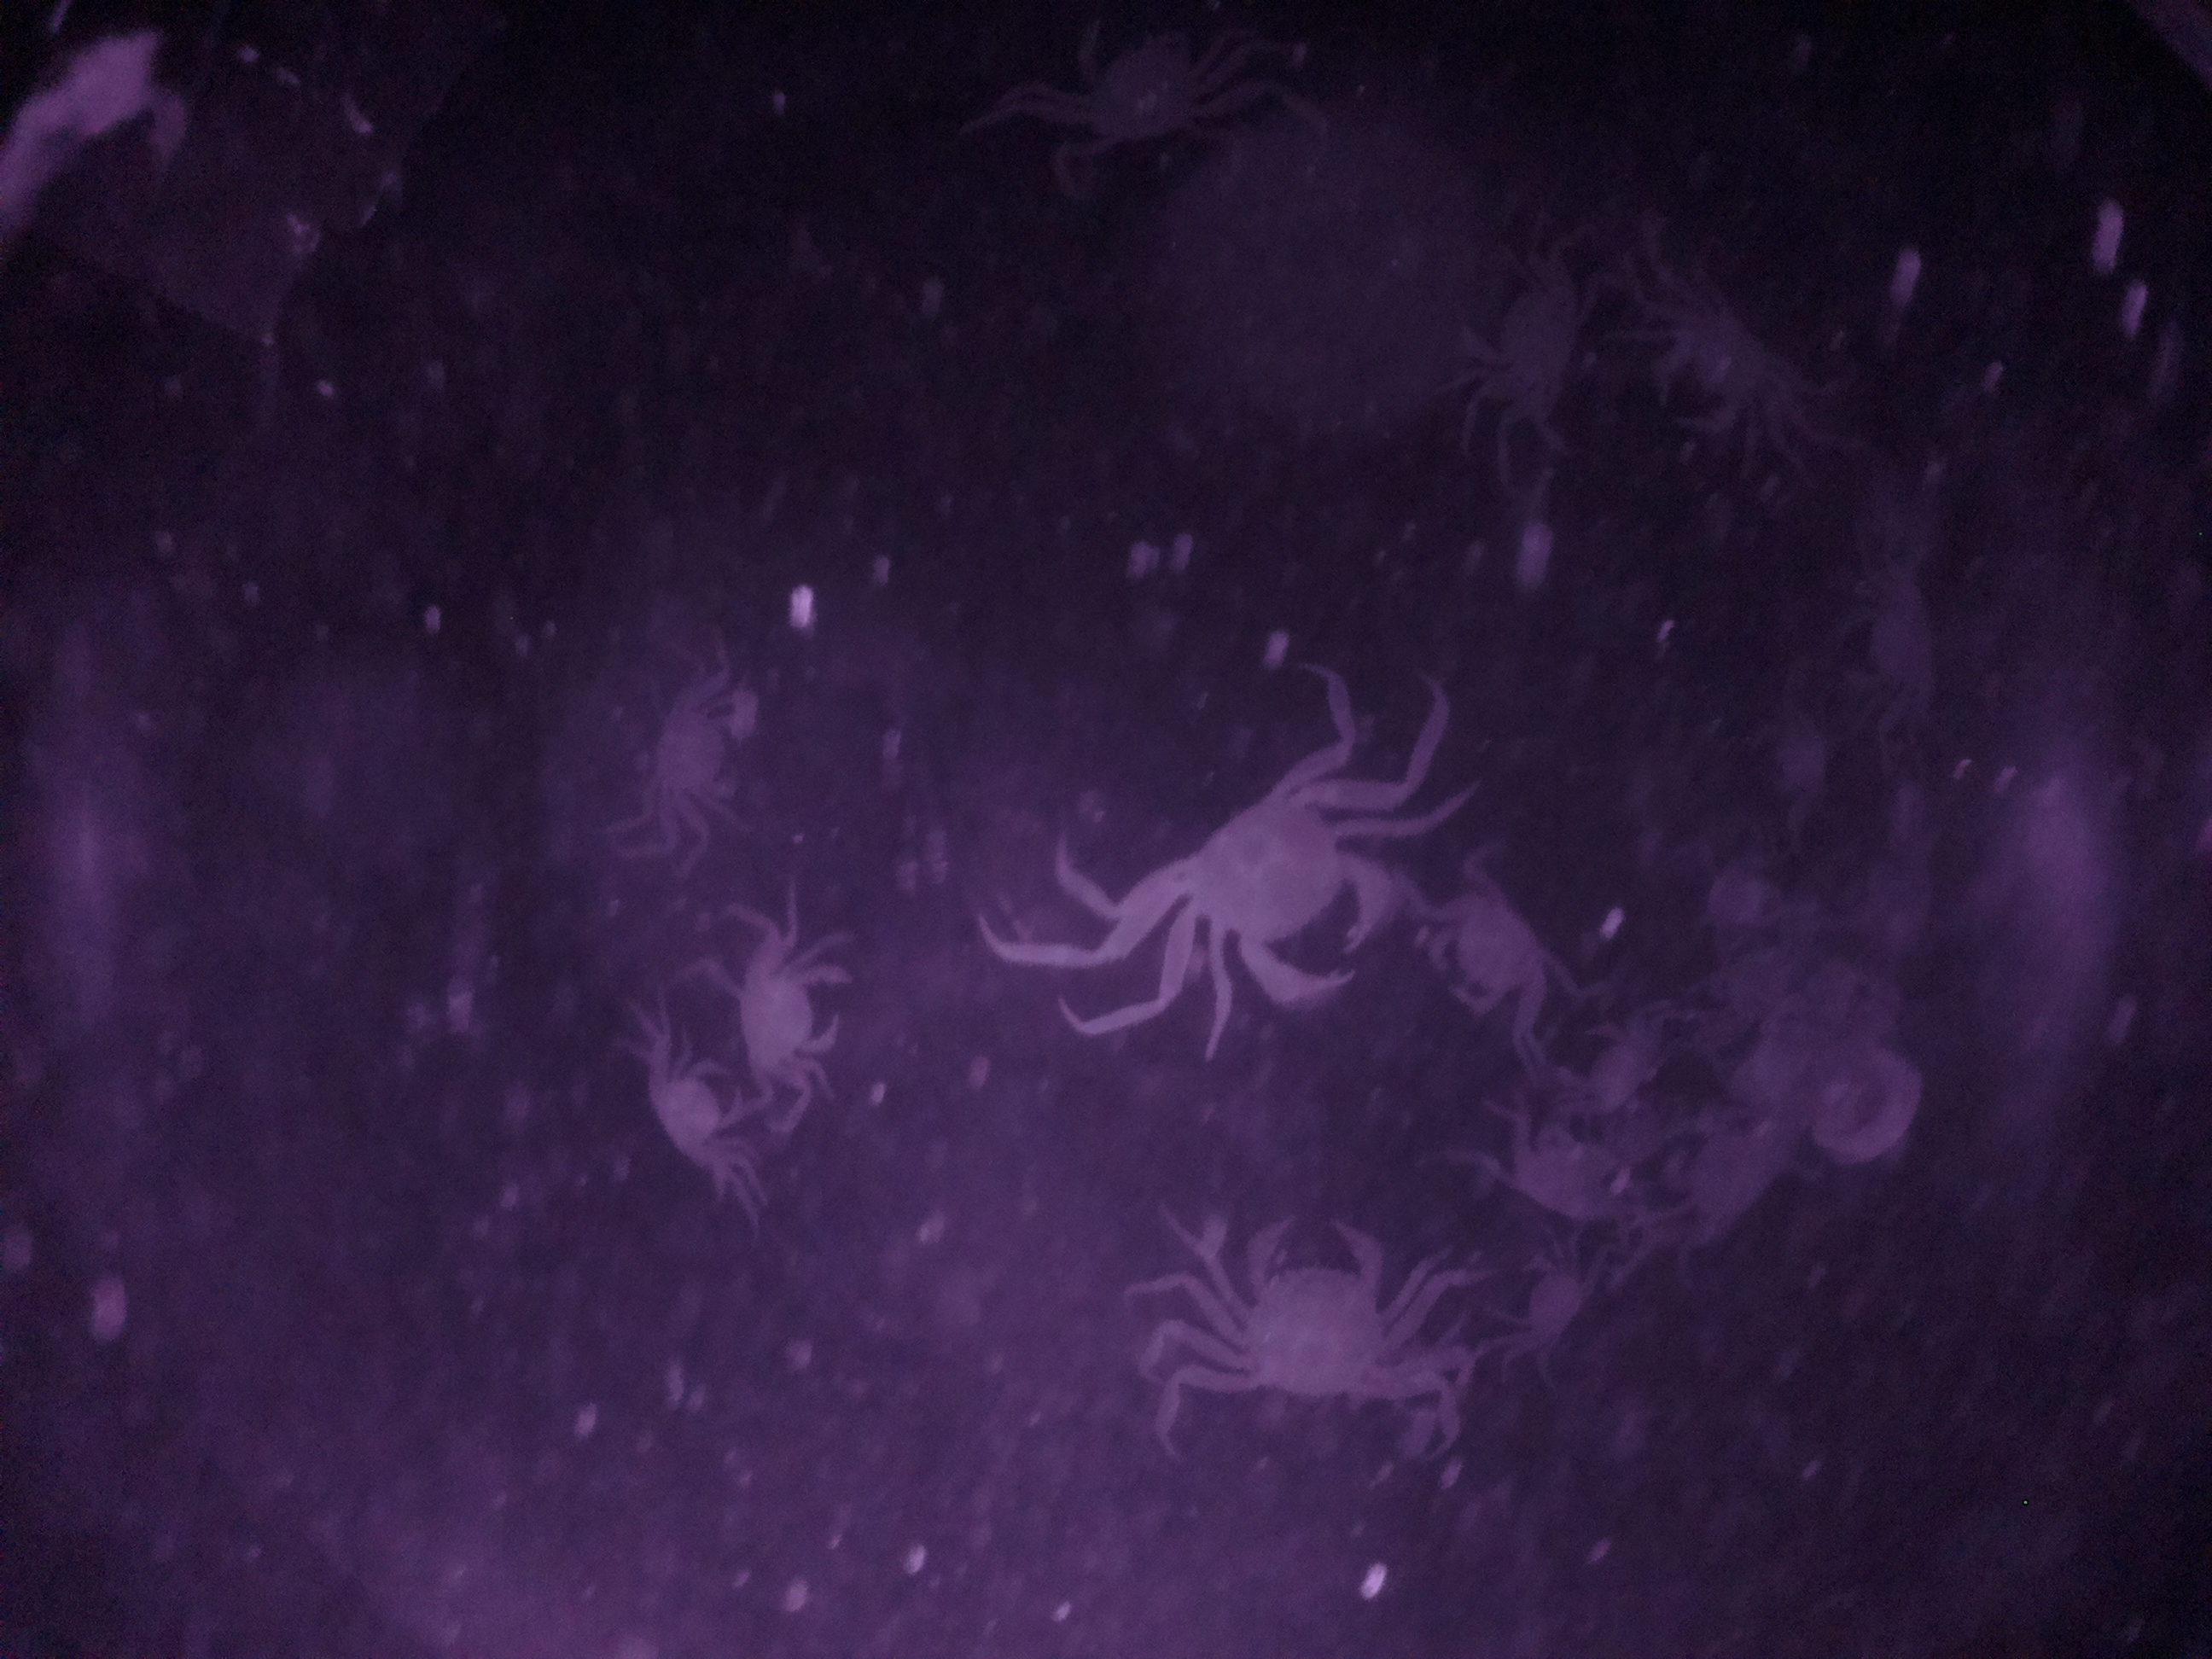Crab: (1148, 760, 1406, 1026), (1190, 1201, 1435, 1413), (1463, 1100, 1660, 1249), (1411, 875, 1588, 1035), (636, 1019, 768, 1208), (728, 931, 864, 1108), (637, 662, 761, 852), (1498, 1239, 1608, 1377)
